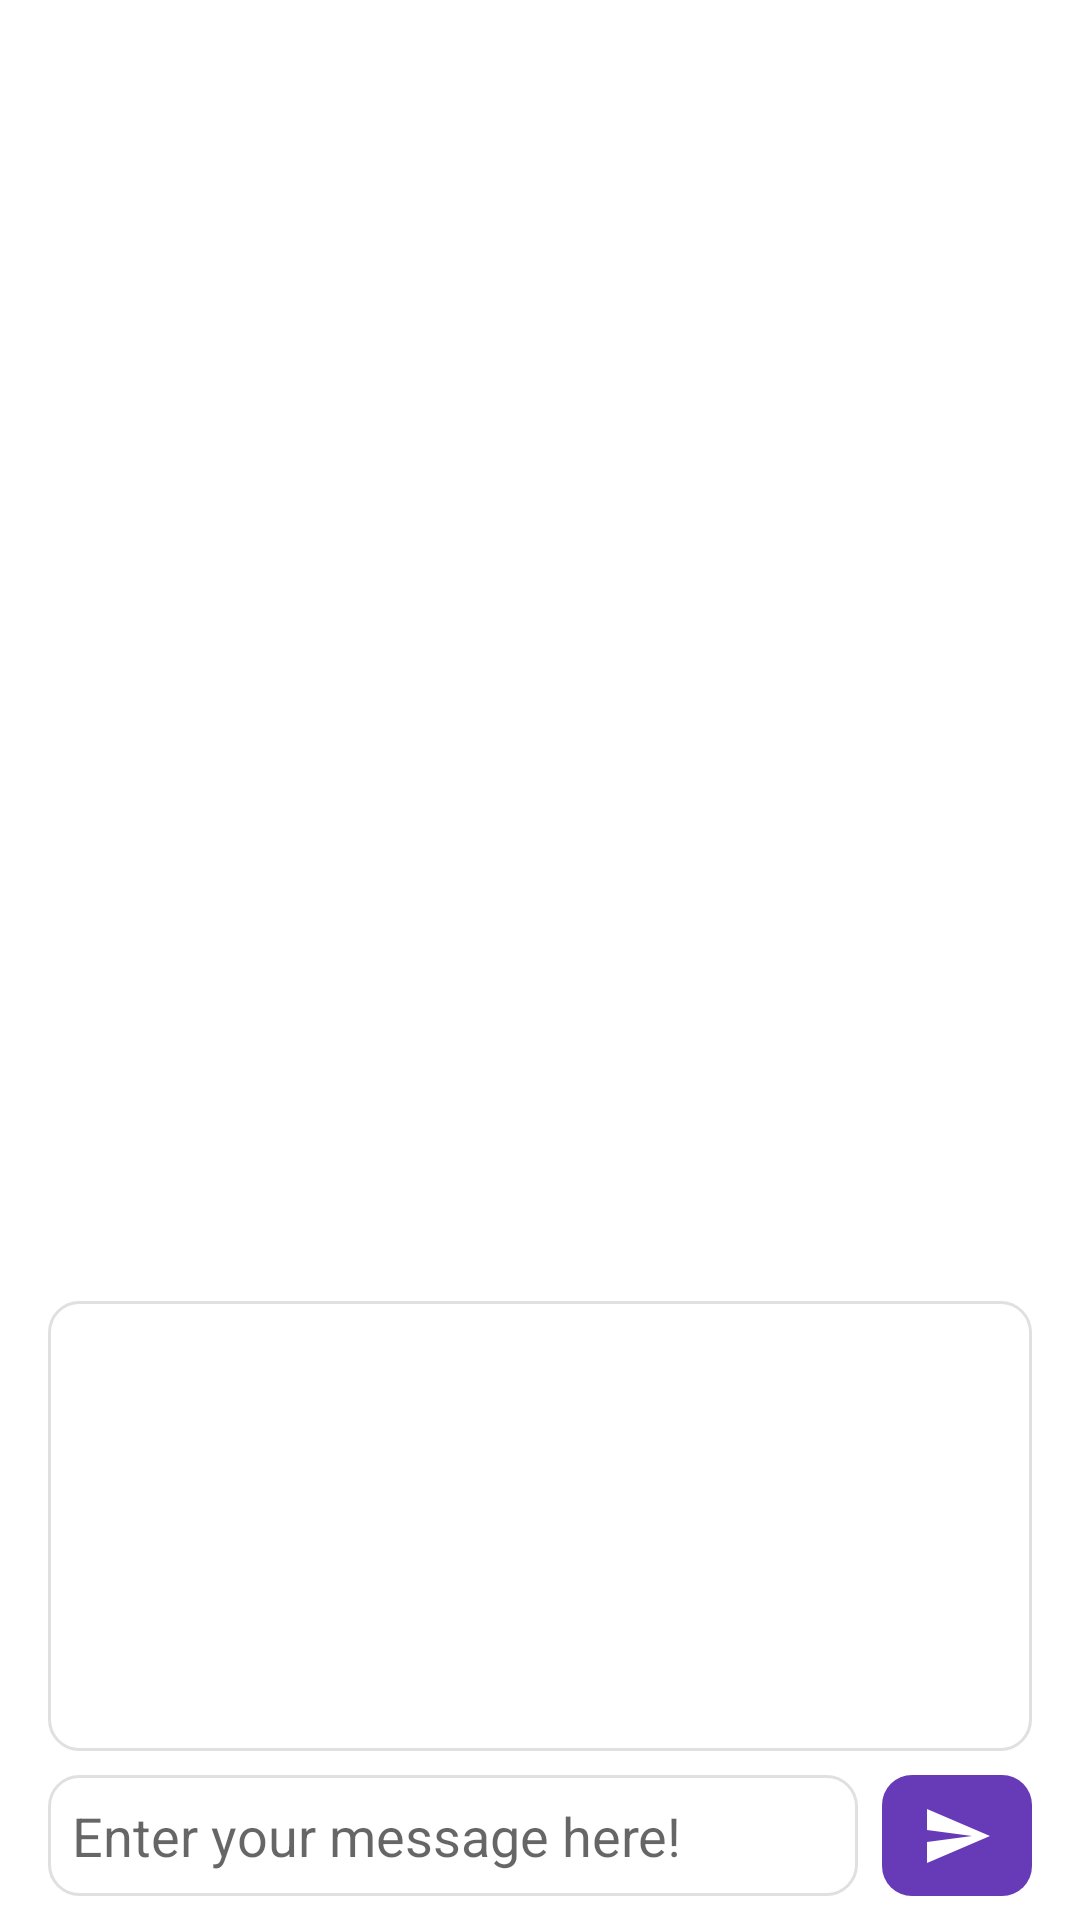

Named icons in this screenshot (1080*1920) and their bounding boxes, (x1, y1, x2, y2):
send: (882, 1775, 1032, 1896)
